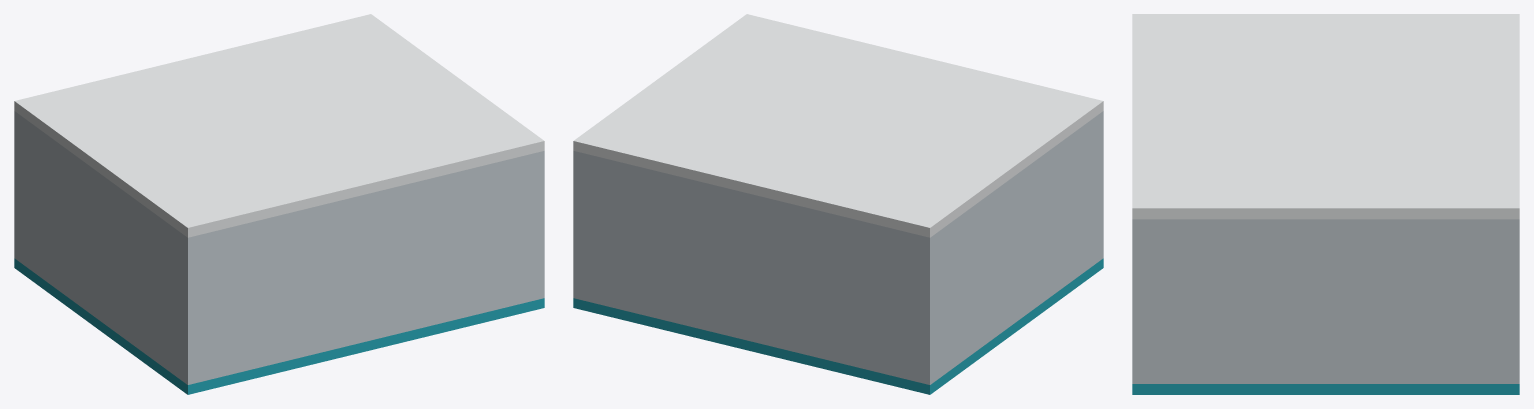
File: brand_new_room_Set.fbx
3 renders of one model, left to right at view 1: azimuth 30°, elevation 25°; view 2: azimuth 150°, elevation 25°; view 3: azimuth 270°, elevation 25°, orthographic. The views are drawn at different scales.
Visible parts, largest first — view 1: Ceiling, Wall_Front, Wall_Left, Floor, Wall_Back; view 2: Ceiling, Wall_Back, Wall_Left, Floor, Wall_Front; view 3: Ceiling, Wall_Right, Floor, Wall_Back, Wall_Front.
Part boxes in pixels (bbox=[...]): Ceiling: bbox=[14, 14, 544, 237]; Wall_Front: bbox=[182, 151, 544, 384]; Wall_Left: bbox=[20, 115, 182, 380]; Floor: bbox=[14, 258, 544, 394]; Wall_Back: bbox=[14, 111, 19, 261]; Ceiling: bbox=[573, 14, 1103, 237]; Wall_Back: bbox=[573, 151, 935, 384]; Wall_Left: bbox=[935, 115, 1097, 380]; Floor: bbox=[573, 258, 1103, 394]; Wall_Front: bbox=[1098, 111, 1103, 261]; Ceiling: bbox=[1132, 14, 1519, 219]; Wall_Right: bbox=[1144, 219, 1507, 383]; Floor: bbox=[1132, 384, 1519, 394]; Wall_Back: bbox=[1507, 219, 1519, 383]; Wall_Front: bbox=[1132, 219, 1144, 383].
Size of the model in its own units: 760 by 340 by 640.
